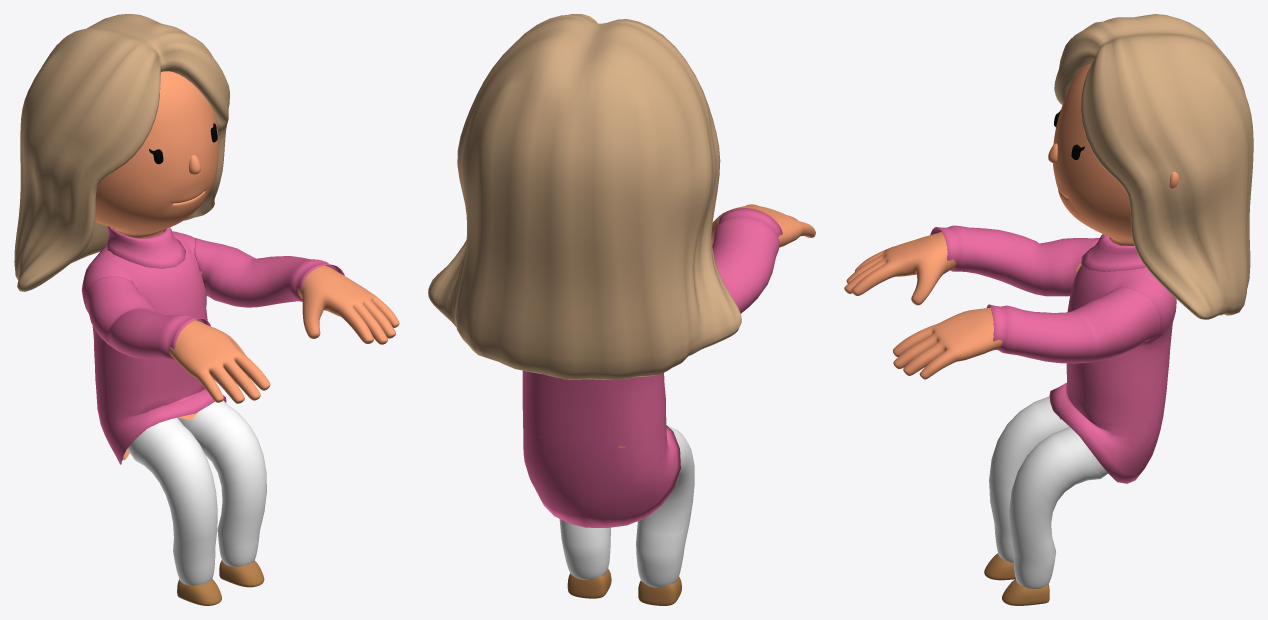
Rendered from community_manager.gltf.
3 views of the same model, side by side, from view 1: azimuth 30°, elevation 25°; view 2: azimuth 150°, elevation 25°; view 3: azimuth 270°, elevation 25° (orthographic). The views are drawn at different scales.
Visible parts, largest first — view 1: Hair_11, female_turtelneck.001, head.001, body.006, Cube.005, Cube.006, Cube.001, Cube.004; view 2: Hair_11, female_turtelneck.001, Cube.005, Cube.006, body.006, Cube.001, Cube.004; view 3: Hair_11, female_turtelneck.001, body.006, Cube.006, head.001, Cube.005, Cube.001, Cube.004.
Boxes of the visible parts, box(x1,y1,x2,y2) form: Hair_11: box(14, 14, 229, 291); female_turtelneck.001: box(82, 226, 344, 464); head.001: box(95, 71, 218, 238); body.006: box(123, 265, 399, 460); Cube.005: box(127, 417, 217, 585); Cube.006: box(178, 400, 266, 566); Cube.001: box(219, 560, 264, 587); Cube.004: box(177, 579, 221, 605); Hair_11: box(428, 14, 741, 379); female_turtelneck.001: box(522, 208, 782, 528); Cube.005: box(636, 425, 694, 587); Cube.006: box(559, 519, 610, 579); body.006: box(538, 204, 815, 447); Cube.001: box(567, 569, 611, 598); Cube.004: box(638, 576, 681, 605); Hair_11: box(1054, 14, 1253, 319); female_turtelneck.001: box(930, 225, 1176, 483); body.006: box(844, 232, 1081, 419); Cube.006: box(1009, 426, 1107, 589); head.001: box(1053, 64, 1178, 245); Cube.005: box(989, 396, 1068, 562); Cube.001: box(1002, 579, 1049, 605); Cube.004: box(984, 553, 1015, 580).
Bounding box in the file's own units: 5.94 × 10.59 × 7.21.
